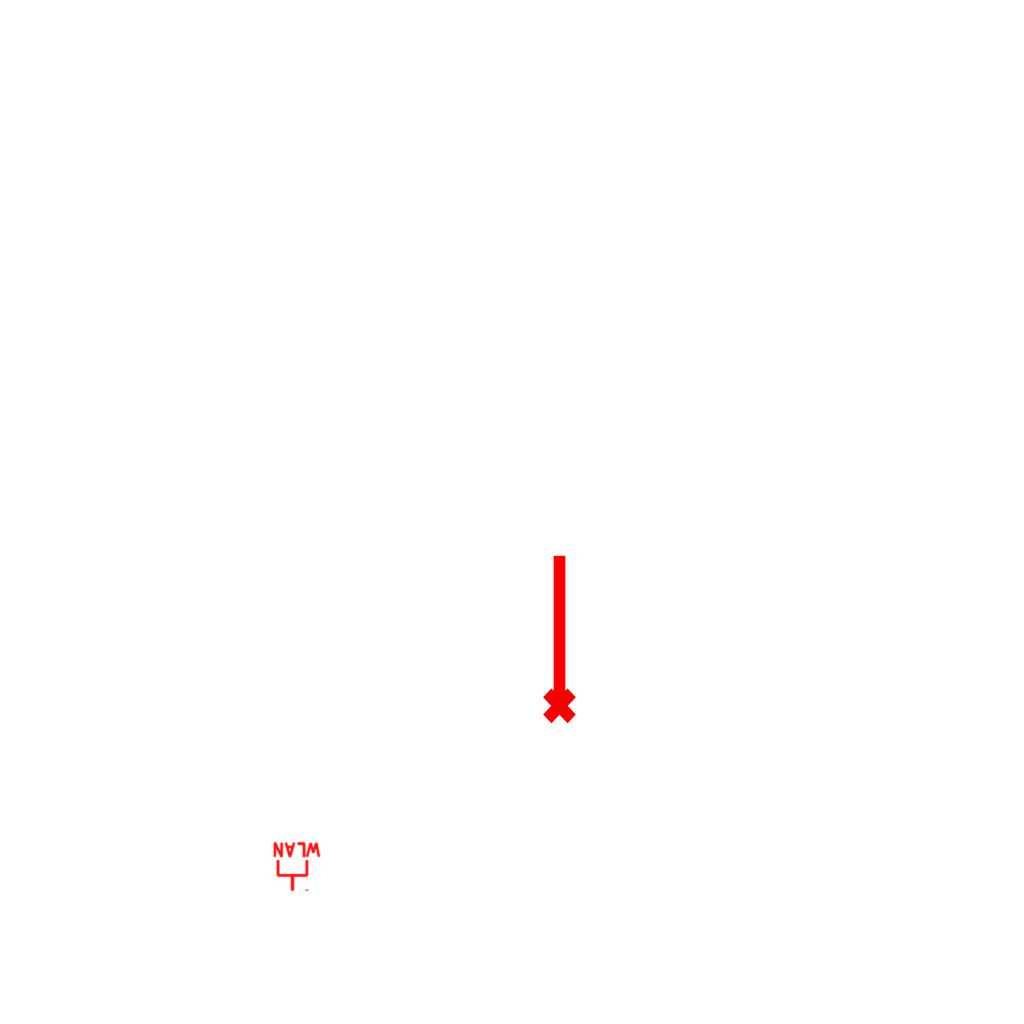ASR_Ansaugoeffnung: (534, 550, 580, 726)
WLAN: (271, 841, 323, 893)
